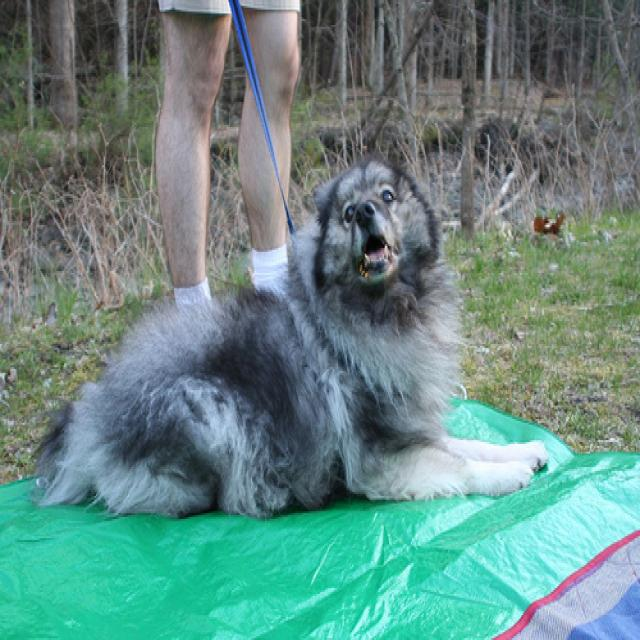dog-keeshond: (31, 142, 557, 532)
